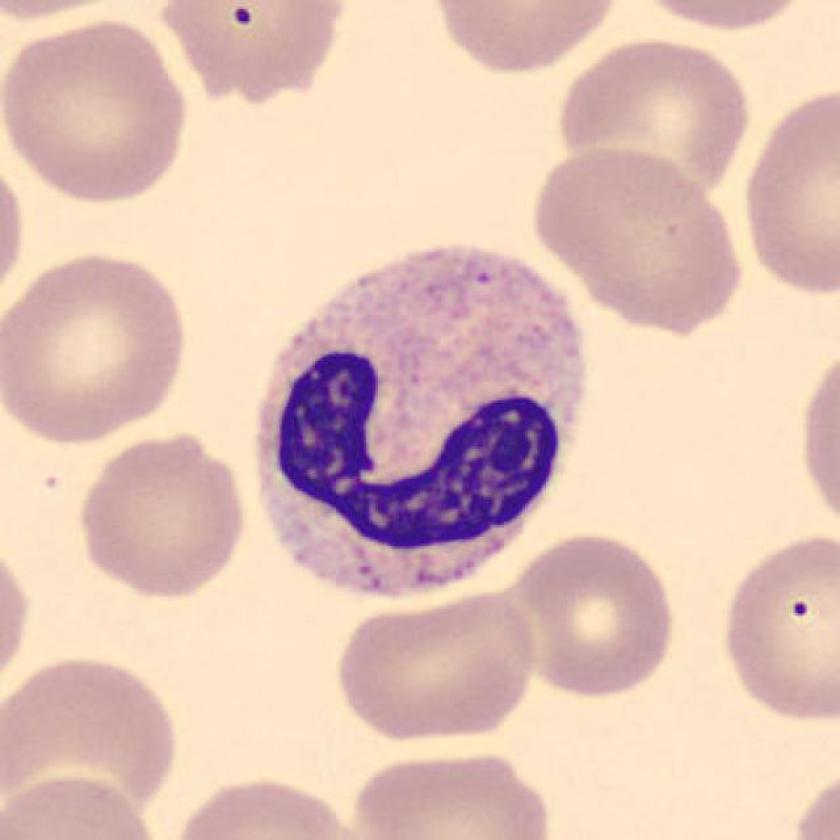neutrophil: (256, 245, 587, 594)
